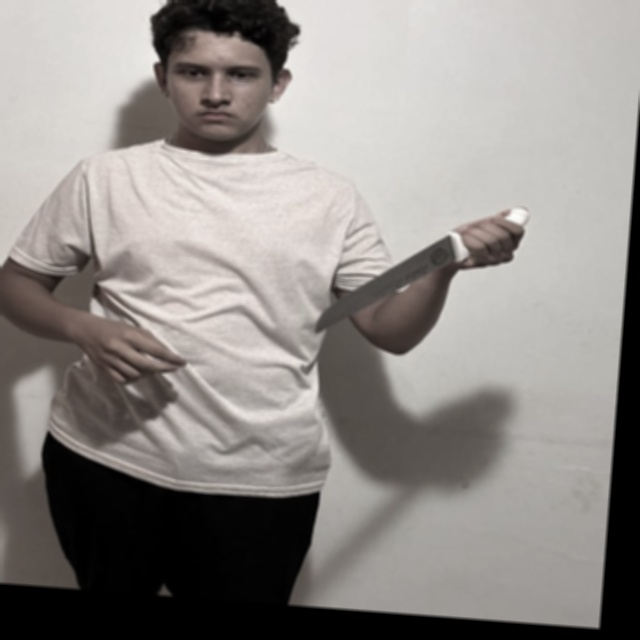Sharp-Object: (310, 224, 455, 342)
